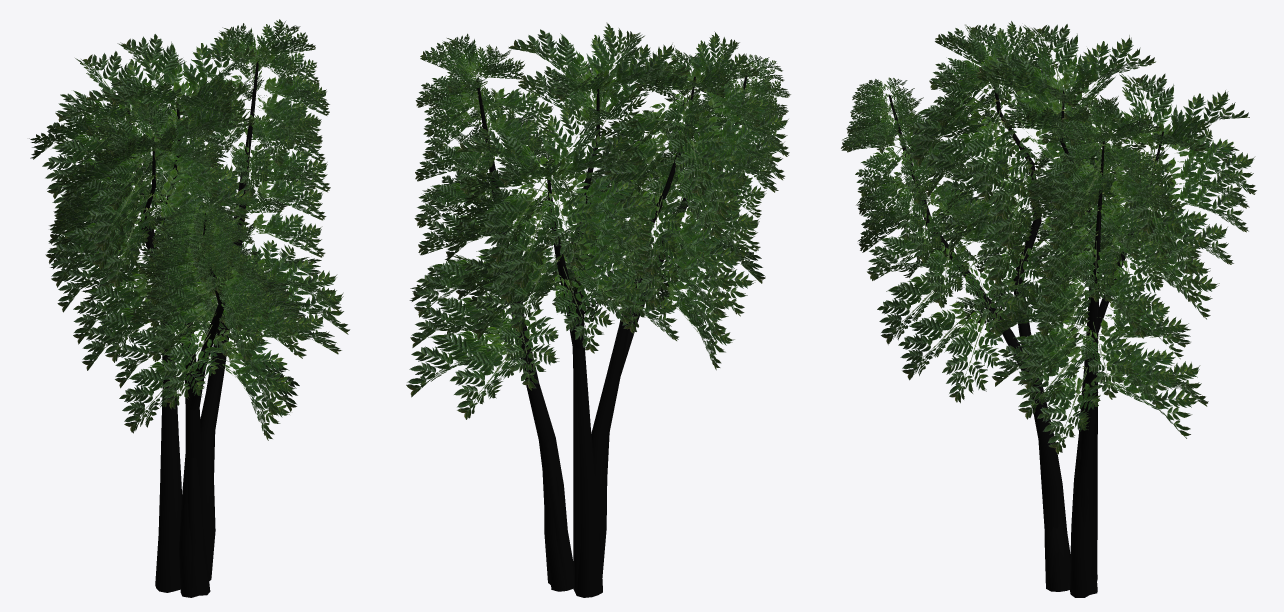
Rendered from africanMahogany_02.dae.
The picture shows the model from 3 angles, left to right: view 1: azimuth 30°, elevation 25°; view 2: azimuth 150°, elevation 25°; view 3: azimuth 270°, elevation 25°; orthographic projection.
Parts seen in each view (by area): view 1: africanMahoganyTwo256, africanMahoganyTwo128, africanMahoganyTwo64; view 2: africanMahoganyTwo256, africanMahoganyTwo128, africanMahoganyTwo64; view 3: africanMahoganyTwo256, africanMahoganyTwo128, africanMahoganyTwo64.
Part boxes in pixels (x1,y1,x2,y2): africanMahoganyTwo256: (29, 19, 349, 597); africanMahoganyTwo128: (30, 21, 346, 592); africanMahoganyTwo64: (49, 21, 350, 439); africanMahoganyTwo256: (406, 23, 790, 597); africanMahoganyTwo128: (408, 23, 789, 595); africanMahoganyTwo64: (413, 31, 786, 419); africanMahoganyTwo256: (841, 21, 1256, 597); africanMahoganyTwo128: (841, 24, 1253, 590); africanMahoganyTwo64: (842, 26, 1256, 454).
Size of what is drawn, in the model's own units: 4.72 by 5.61 by 7.61.
